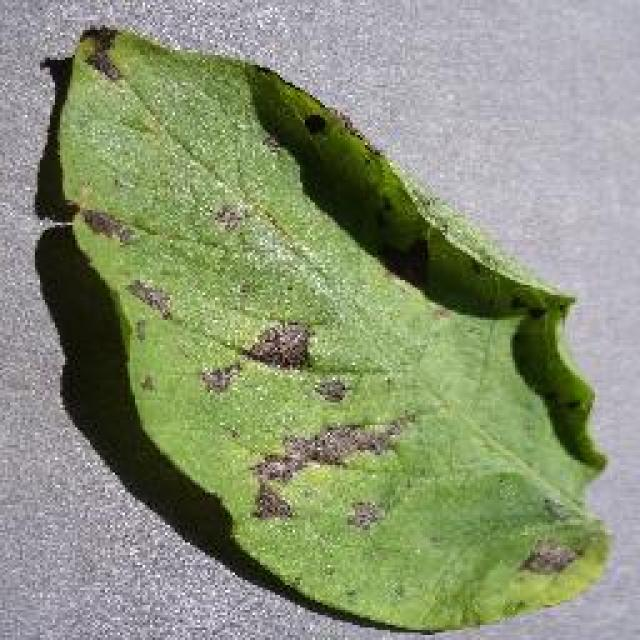Potato___Early_blight: (40, 10, 625, 640)
